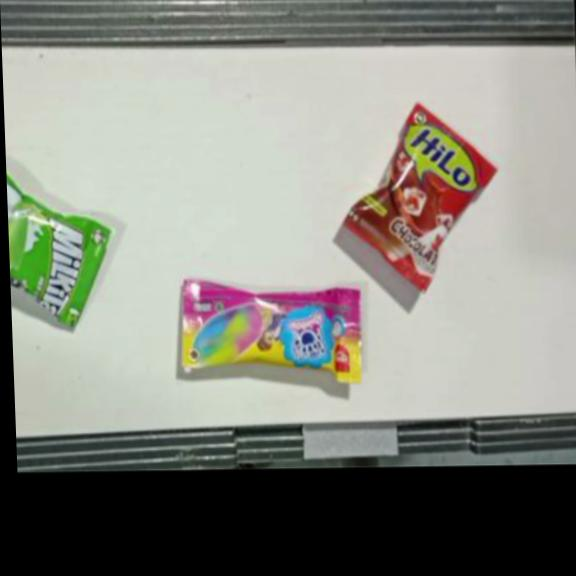Plastik: (339, 103, 503, 296), (179, 275, 365, 387), (6, 169, 115, 332)
